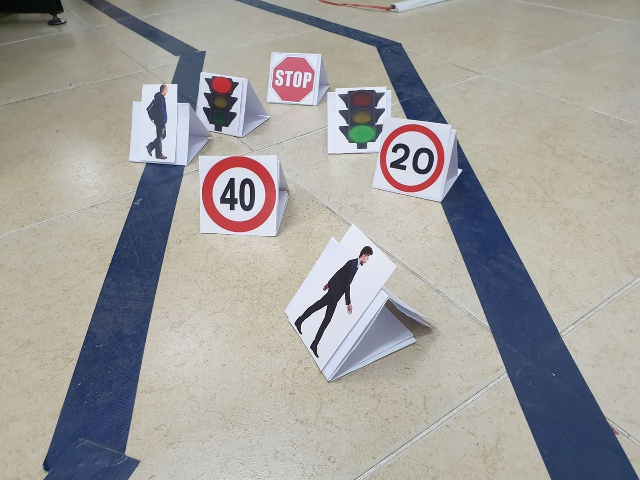Green: (333, 90, 383, 149)
Limit 20: (384, 127, 442, 192)
Limit 40: (199, 156, 277, 233)
Person: (297, 243, 371, 365), (140, 83, 173, 159)
Red: (204, 74, 242, 131)
Stop: (271, 55, 314, 102)
